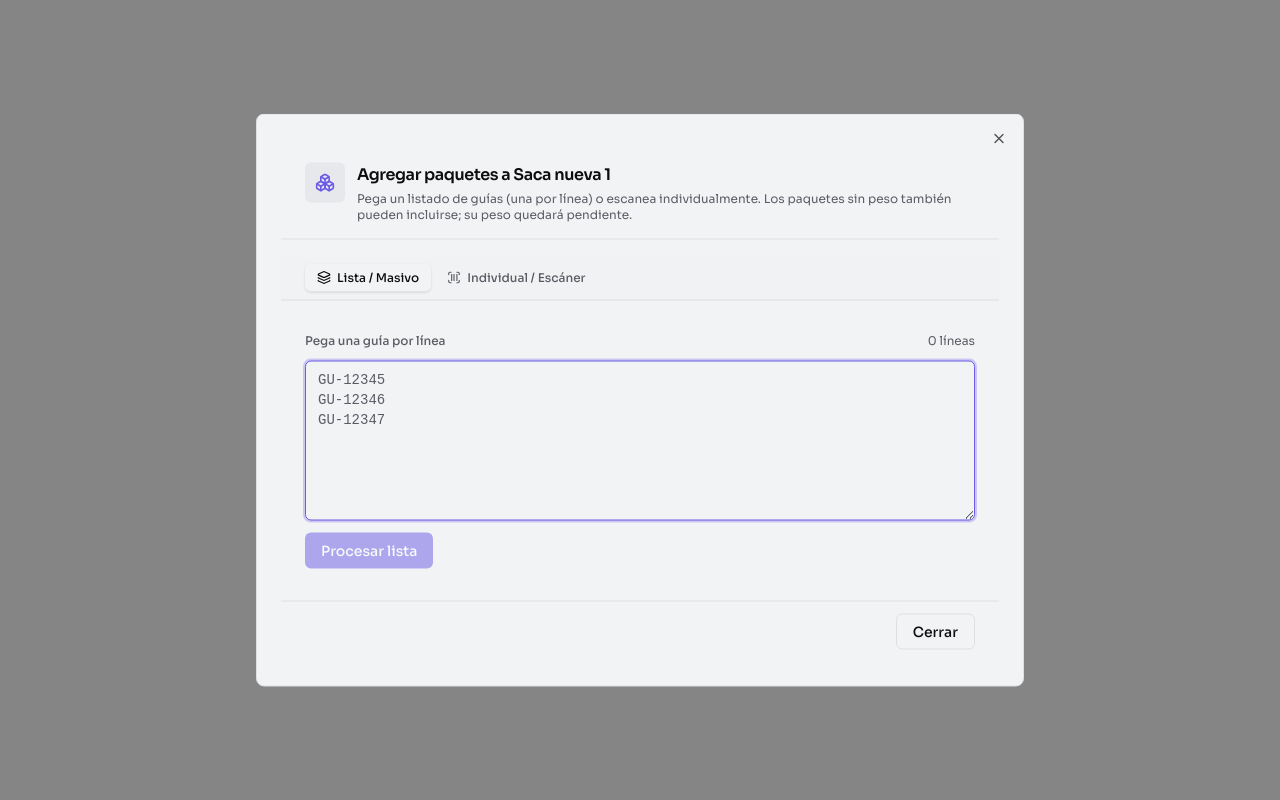
Test: AgregarPaquetesSacaDialog › permite agregar un paquete sin peso (no lo bloquea)
Type "GU-2" into the text box with placeholder "GU-12345 GU-12346 GU-12347" at (640, 440), box [305,360,975,520]
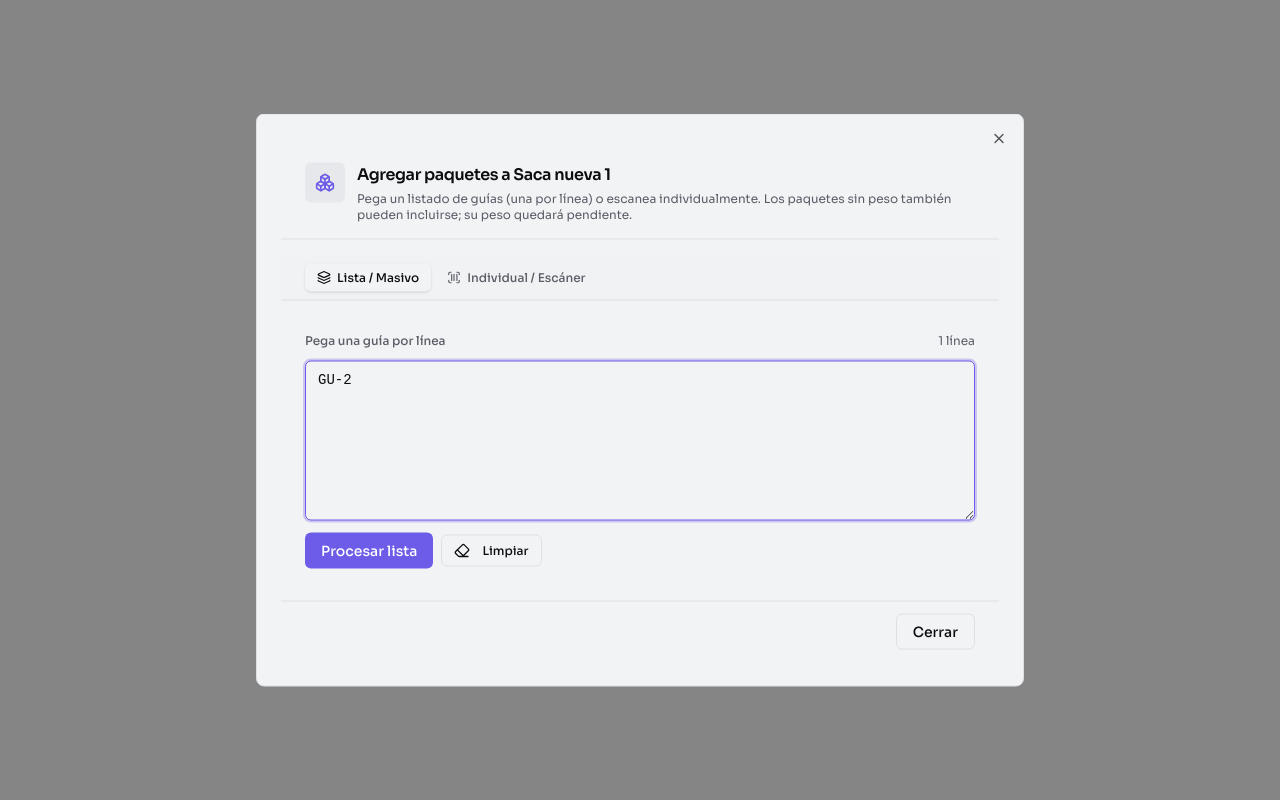
Click the button "Procesar lista" at (369, 550), box [305,532,433,568]
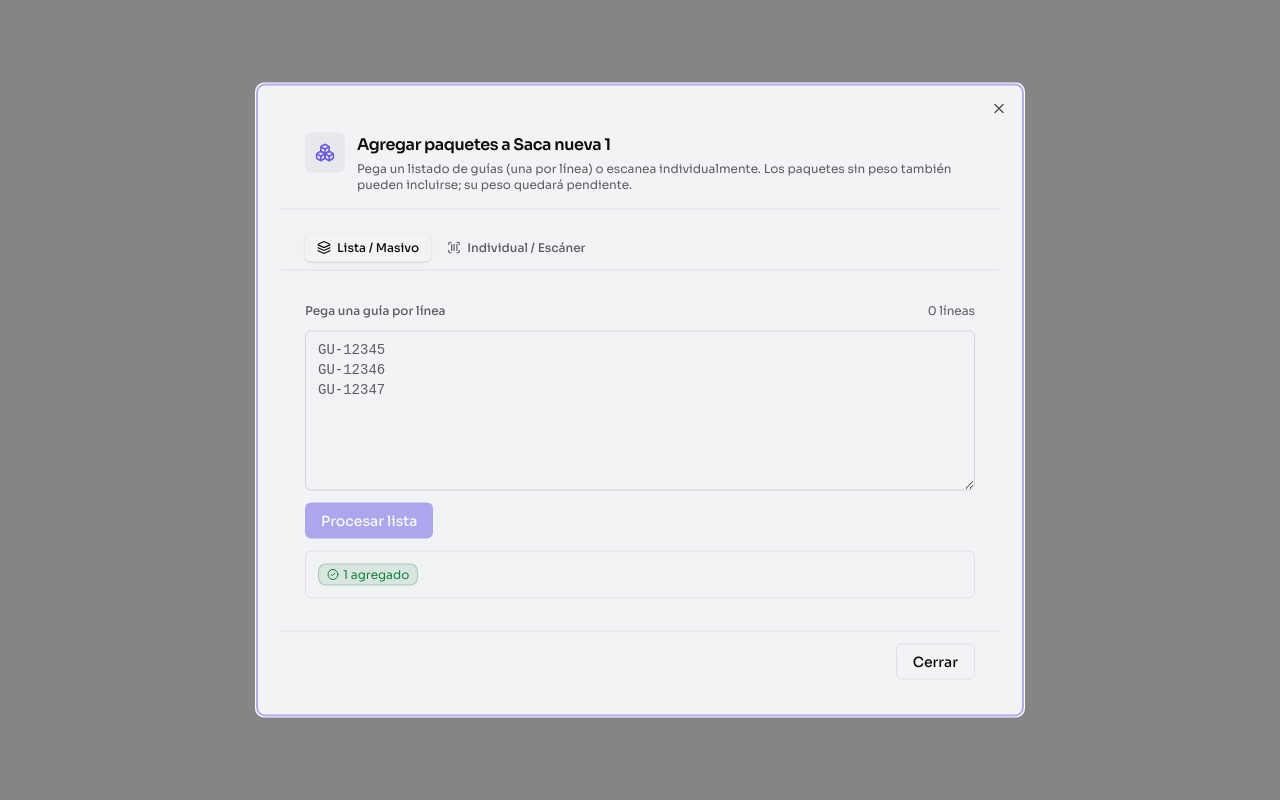
Result: the text "1 agregado" is shown at [318,564,418,586]
